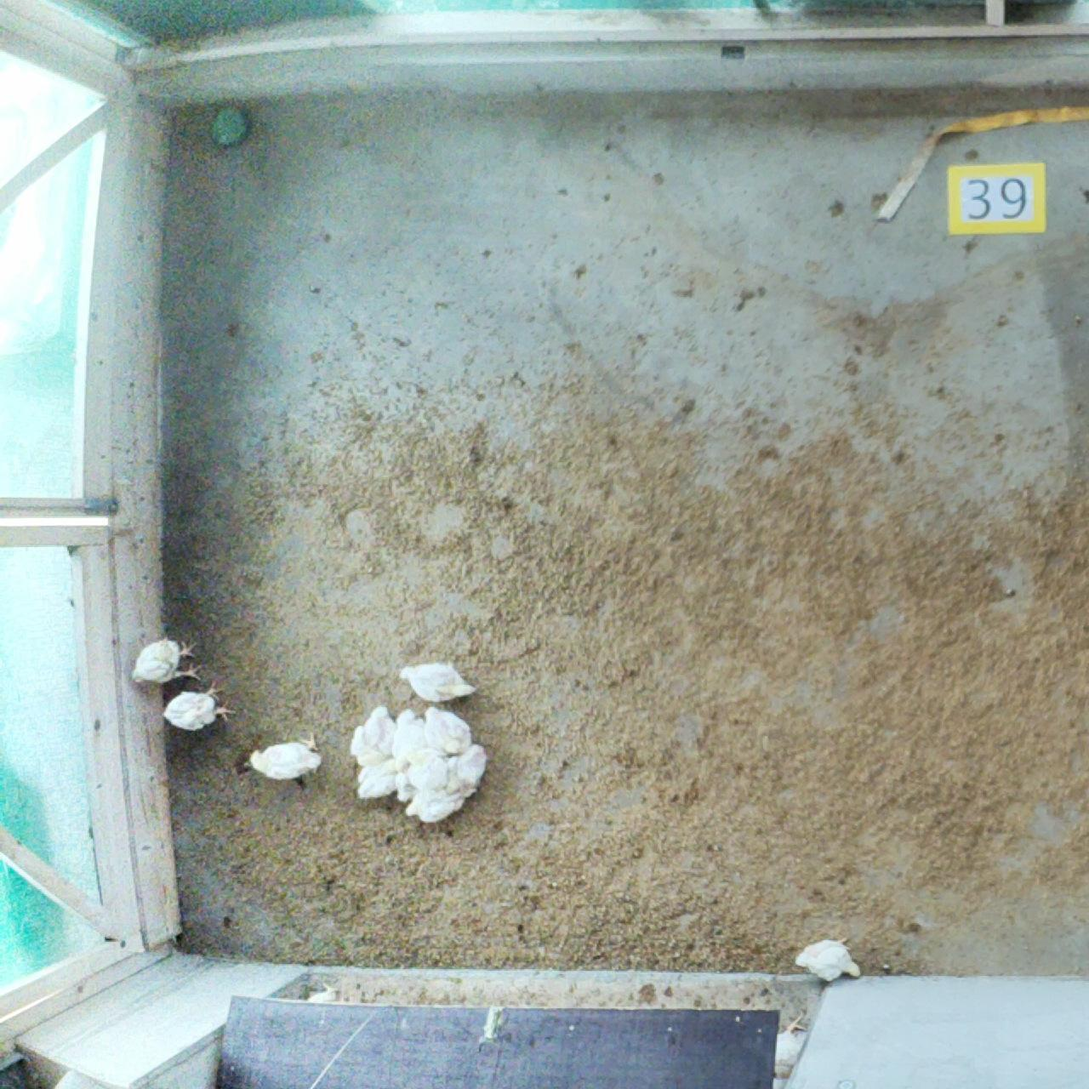chicken: (159, 676, 239, 735), (396, 655, 484, 708), (243, 731, 327, 786), (127, 631, 202, 688), (792, 930, 866, 986), (759, 1004, 814, 1078), (417, 703, 474, 761), (349, 702, 399, 768), (401, 785, 468, 829), (398, 742, 452, 793), (443, 741, 490, 797), (352, 759, 402, 805), (387, 706, 427, 761)
